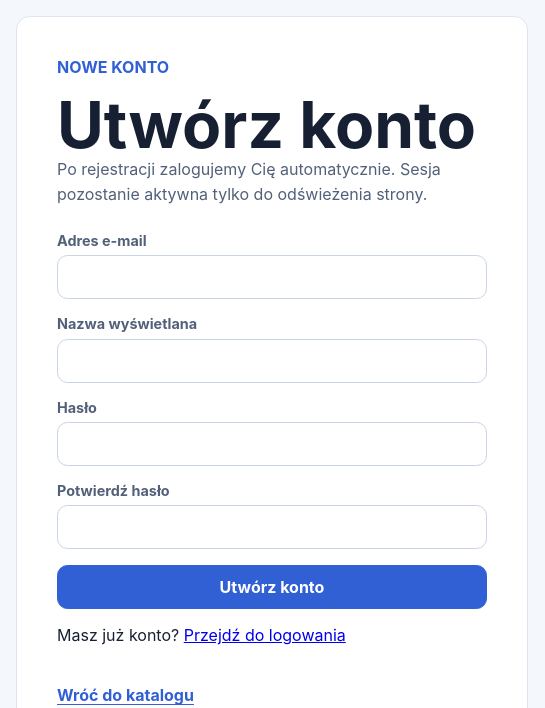
Test: RegisterPage › shows a neutral conflict error and clears passwords
Step 1. Type "user@example.com" into the field labelled "Adres e-mail" → [272, 277], box [57,255,487,299]
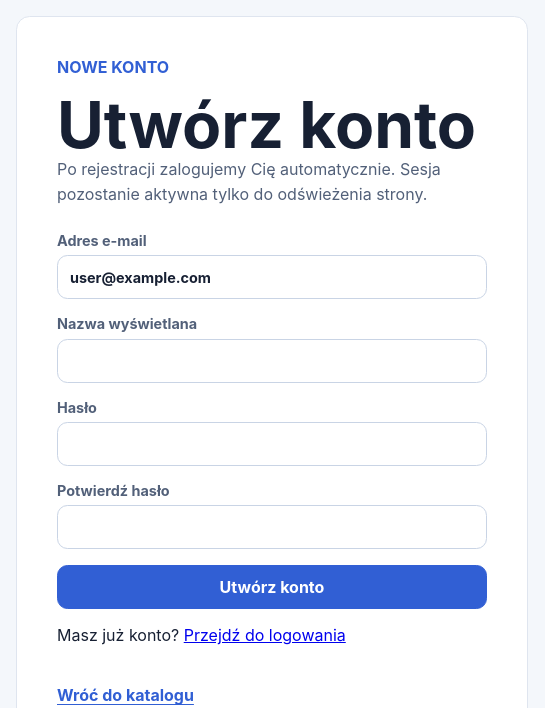
Step 2. Type " Tomasz " into the field labelled "Nazwa wyświetlana" → [272, 361], box [57,339,487,383]
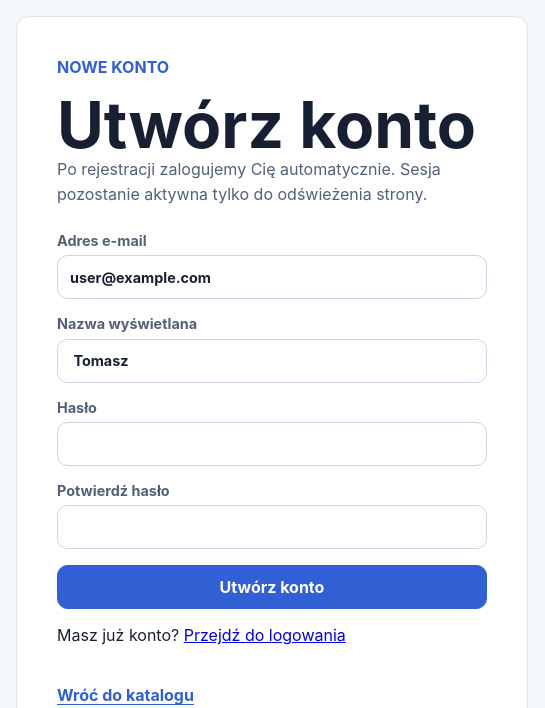
Step 3. Type "Correct-Horse-42" into the password field labelled "Hasło" → [272, 444], box [57,422,487,466]
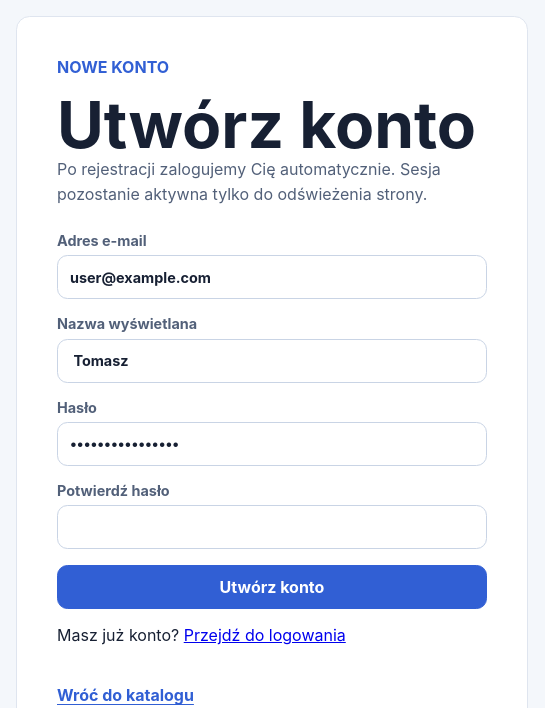
Step 4. Type "Correct-Horse-42" into the password field labelled "Potwierdź hasło" → [272, 527], box [57,505,487,549]
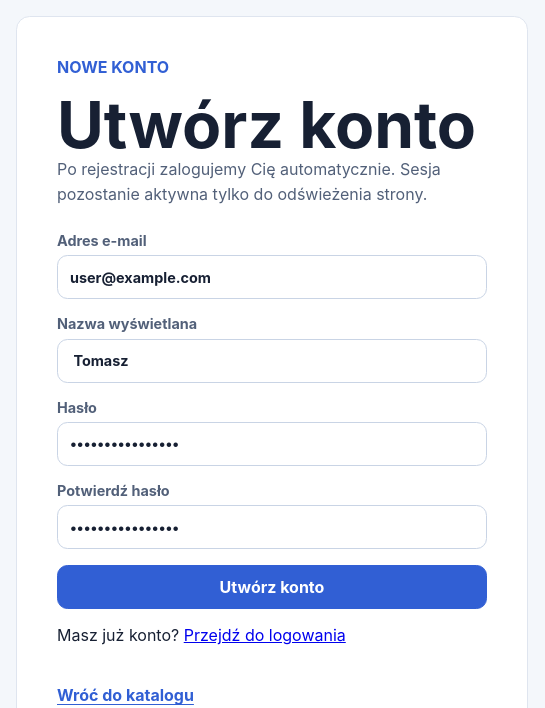
Step 5. Click the button "Utwórz konto" → [272, 587], box [57,565,487,609]
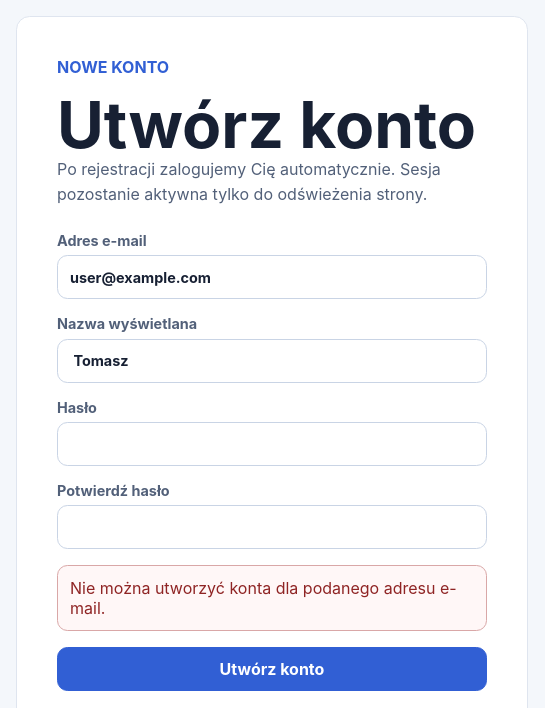
Result: the message reads "Nie można utworzyć konta dla podanego adresu e-mail." at [70,578,457,618]
Result: the password field labelled "Hasło" is empty at [57,422,487,466]
Result: the password field labelled "Potwierdź hasło" is empty at [57,505,487,549]
